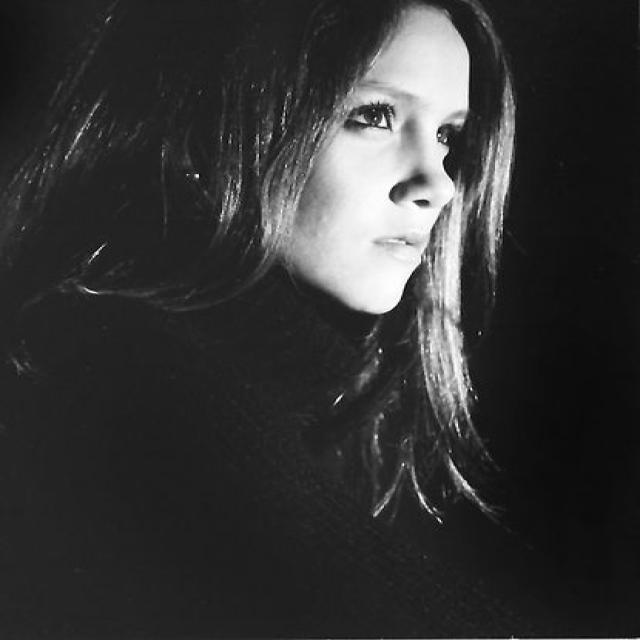person: (4, 1, 541, 640)
